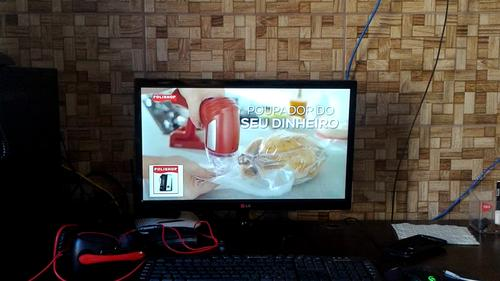Polishop #1: (149, 164, 184, 197)
